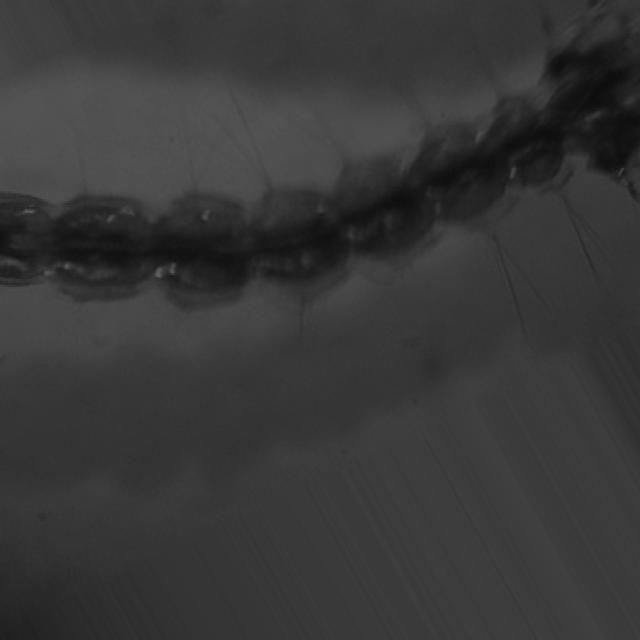larvas: (0, 5, 640, 310)
